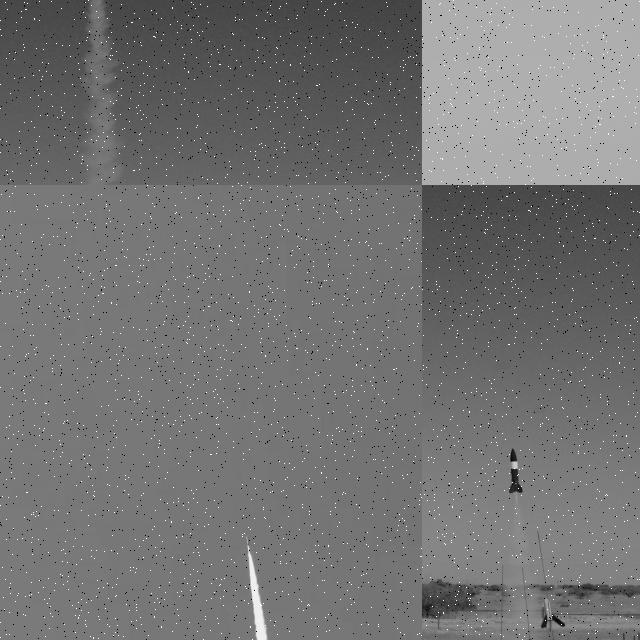Rocket: (539, 597, 565, 629), (508, 447, 524, 496), (246, 536, 250, 557)
